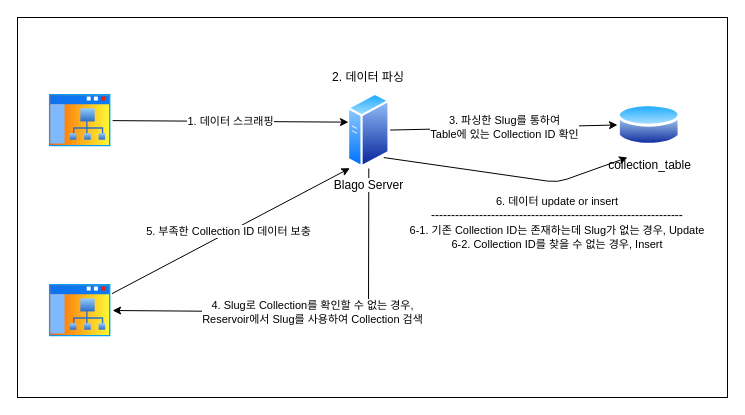
This 745x415 diagram has some shape labels left out. The shapes that lost their labels are listed below. From the top down, each one's centre as x and y in pixels, then its label:
(79,120): Opensea
(79,310): Reservoir
